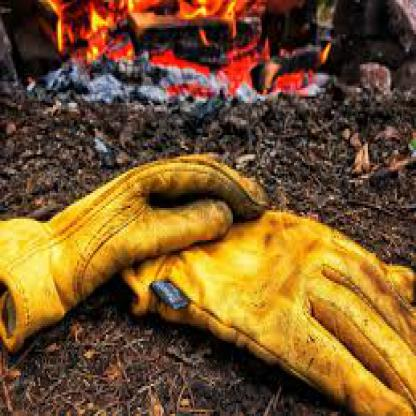with_gloves: (122, 210, 414, 414), (1, 144, 270, 356)
